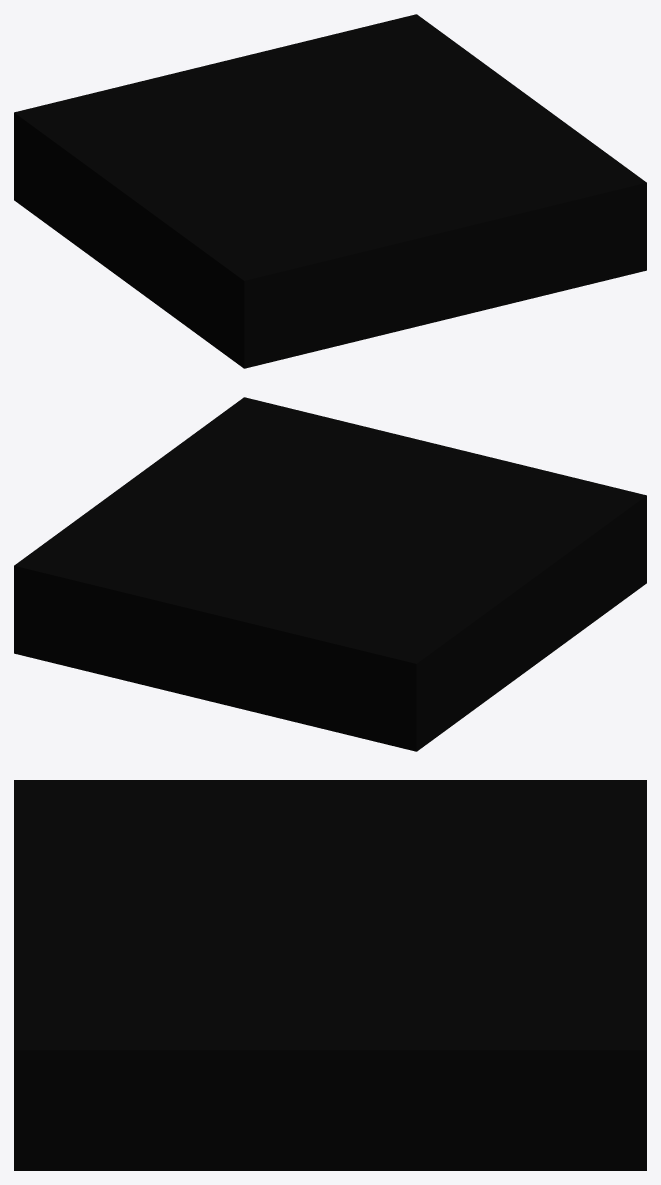
The model's file is flatnolight.dae.
The picture shows the model from 3 angles, top to bottom: view 1: azimuth 30°, elevation 25°; view 2: azimuth 150°, elevation 25°; view 3: azimuth 270°, elevation 25°; orthographic projection. The views are drawn at different scales.
Parts seen in each view (by area): view 1: hammermesh-165_shape_003; view 2: hammermesh-165_shape_003; view 3: hammermesh-165_shape_003.
Part boxes in pixels (box(x1,y1,x2,y2)): hammermesh-165_shape_003: box(14, 14, 646, 368); hammermesh-165_shape_003: box(14, 397, 646, 751); hammermesh-165_shape_003: box(14, 780, 646, 1170).
Size of the model in its own units: 2818 by 2790 by 587.
8 materials, 8 textured.
